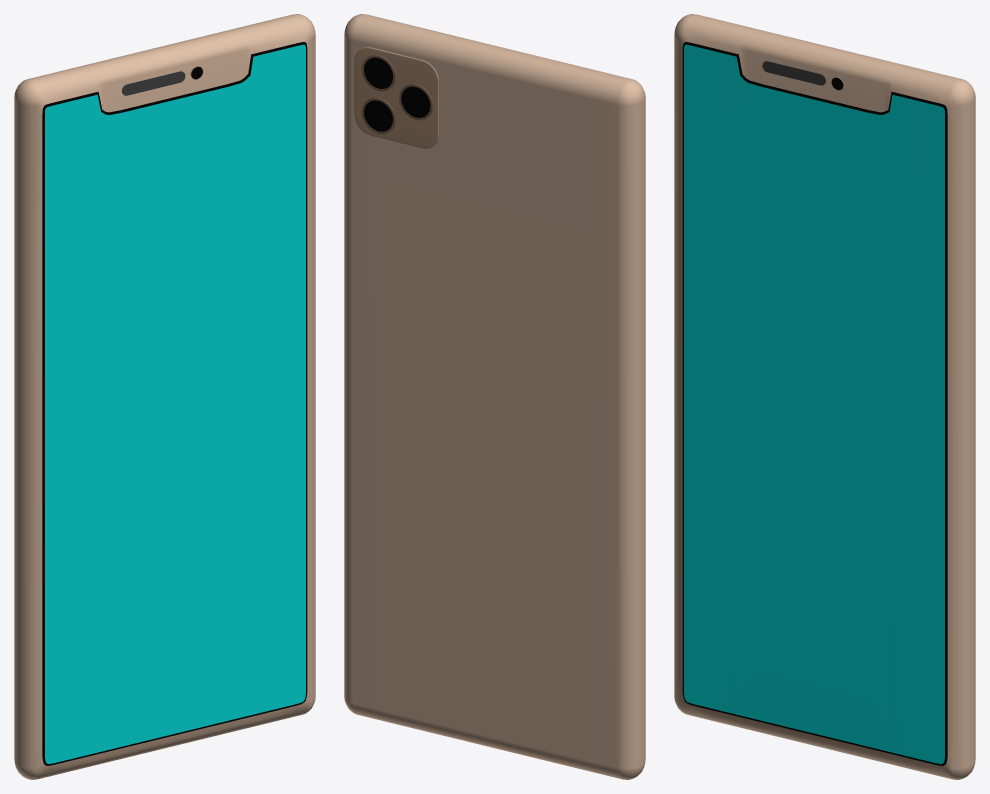
Rendered from iPhone.fbx.
3 views of the same model, side by side, from view 1: azimuth 30°, elevation 25°; view 2: azimuth 150°, elevation 25°; view 3: azimuth 330°, elevation 25° (orthographic).
Parts seen in each view (by area): view 1: iPhone_GRP2; view 2: iPhone_GRP2; view 3: iPhone_GRP2.
Boxes of the visible parts, x1,y1,x2,y2 form: iPhone_GRP2: (14,14,315,779); iPhone_GRP2: (344,14,645,779); iPhone_GRP2: (674,14,975,779).
Size of the model in its own units: 12.25 by 27.65 by 1.56.
